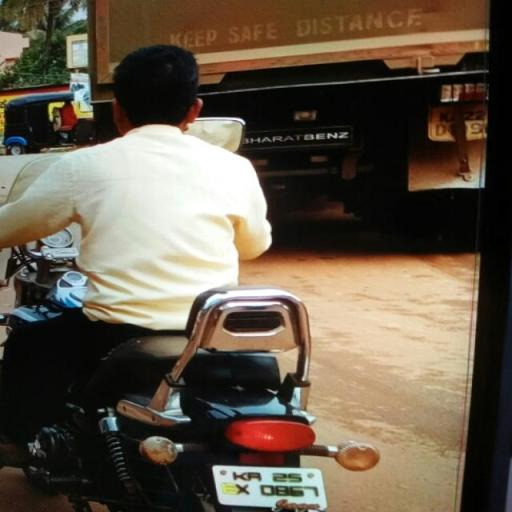bike: (2, 41, 384, 512)
numberplate: (214, 467, 328, 508)
withouthelmet: (118, 46, 198, 124)
